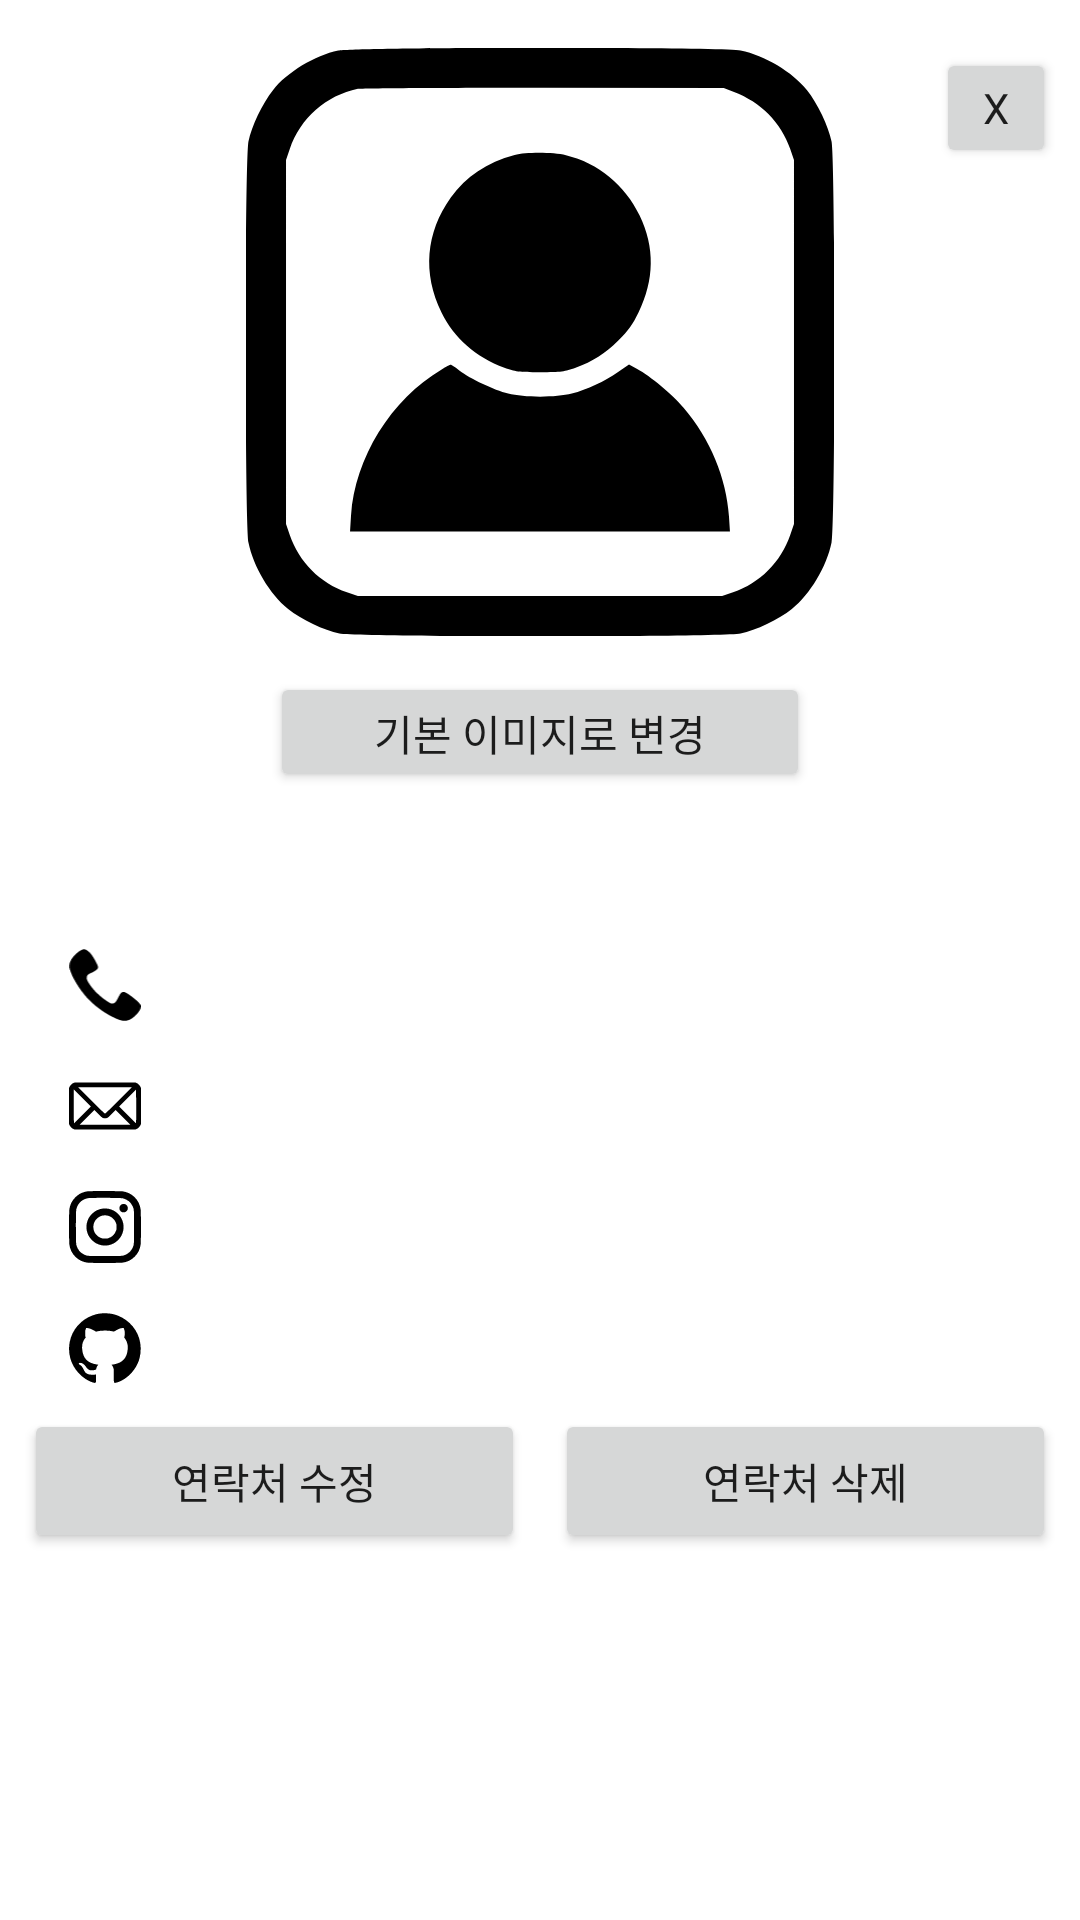

Locate icon controls on the screen. Image size 1080px x 1920px, boxes as BBox(x1, y1, x2, y2).
email: BBox(69, 1082, 141, 1130)
number: BBox(69, 949, 141, 1021)
